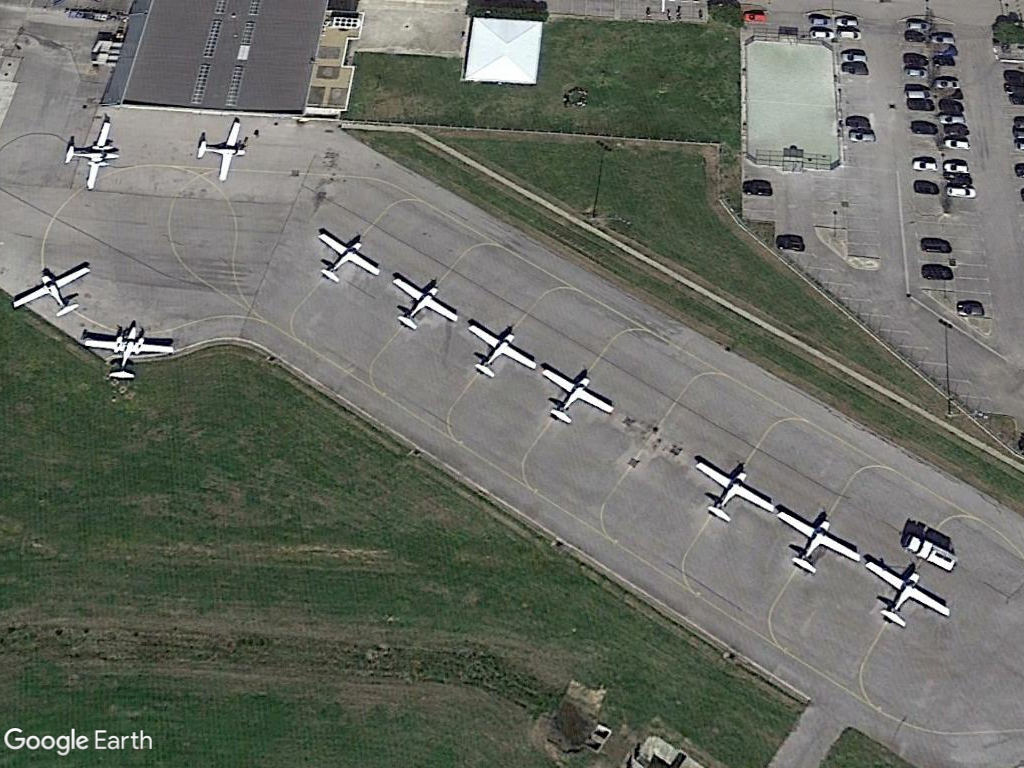car: (920, 262, 955, 283), (741, 177, 774, 197), (772, 233, 808, 251), (921, 237, 955, 255), (955, 300, 986, 319), (944, 182, 980, 198), (846, 128, 879, 145), (943, 134, 973, 150), (902, 86, 936, 100), (937, 112, 969, 126), (911, 158, 940, 172)
trainer: (860, 555, 957, 632), (778, 505, 865, 577), (693, 457, 777, 527), (542, 356, 618, 427), (468, 312, 539, 383), (390, 268, 461, 336), (311, 222, 384, 285), (11, 263, 96, 317), (198, 115, 248, 185)
